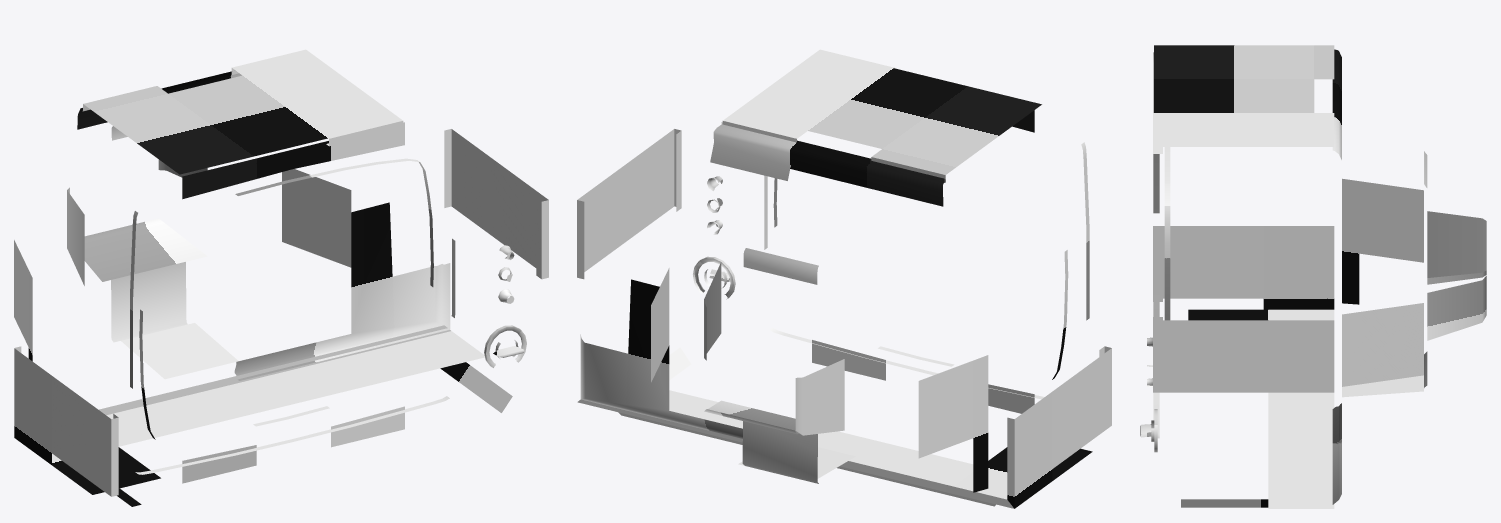
3 views of the same model, side by side, from view 1: azimuth 30°, elevation 25°; view 2: azimuth 150°, elevation 25°; view 3: azimuth 270°, elevation 25° (orthographic). The views are drawn at different scales.
Parts seen in each view (by area): view 1: TV; view 2: TV; view 3: TV.
Part boxes in pixels (box(x1,y1,x2,y2)): TV: box(14, 49, 548, 506); TV: box(577, 49, 1111, 508); TV: box(1140, 45, 1486, 508).
Bounding box in the file's own units: 0.3386 × 0.2451 × 0.249.
